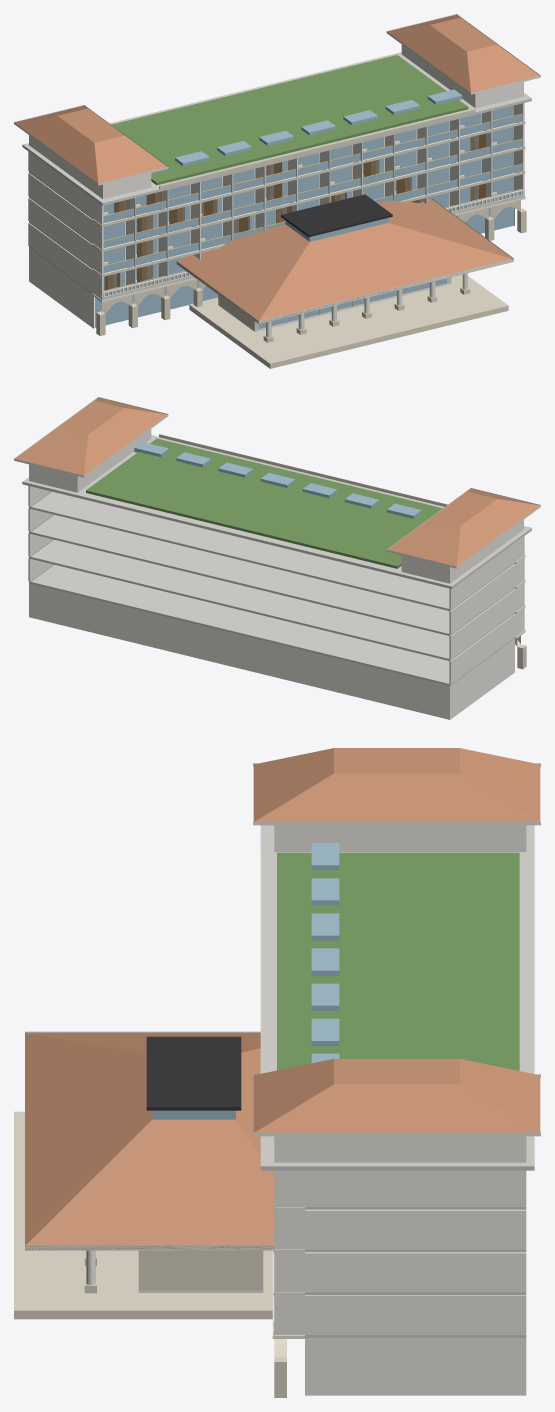
File: E4-7_hotel.fbx
3 renders of one model, top to bottom at view 1: azimuth 30°, elevation 25°; view 2: azimuth 150°, elevation 25°; view 3: azimuth 270°, elevation 25°, orthographic. The views are drawn at different scales.
Parts seen in each view (by area): view 1: E4-7_hotel; view 2: E4-7_hotel; view 3: E4-7_hotel.
Part boxes in pixels (left/top/right/bottom): E4-7_hotel: left=14, top=14, right=540, bottom=368; E4-7_hotel: left=14, top=397, right=540, bottom=719; E4-7_hotel: left=14, top=748, right=540, bottom=1397.
Bounding box in the file's own units: 63.1 × 24.2 × 38.05.
